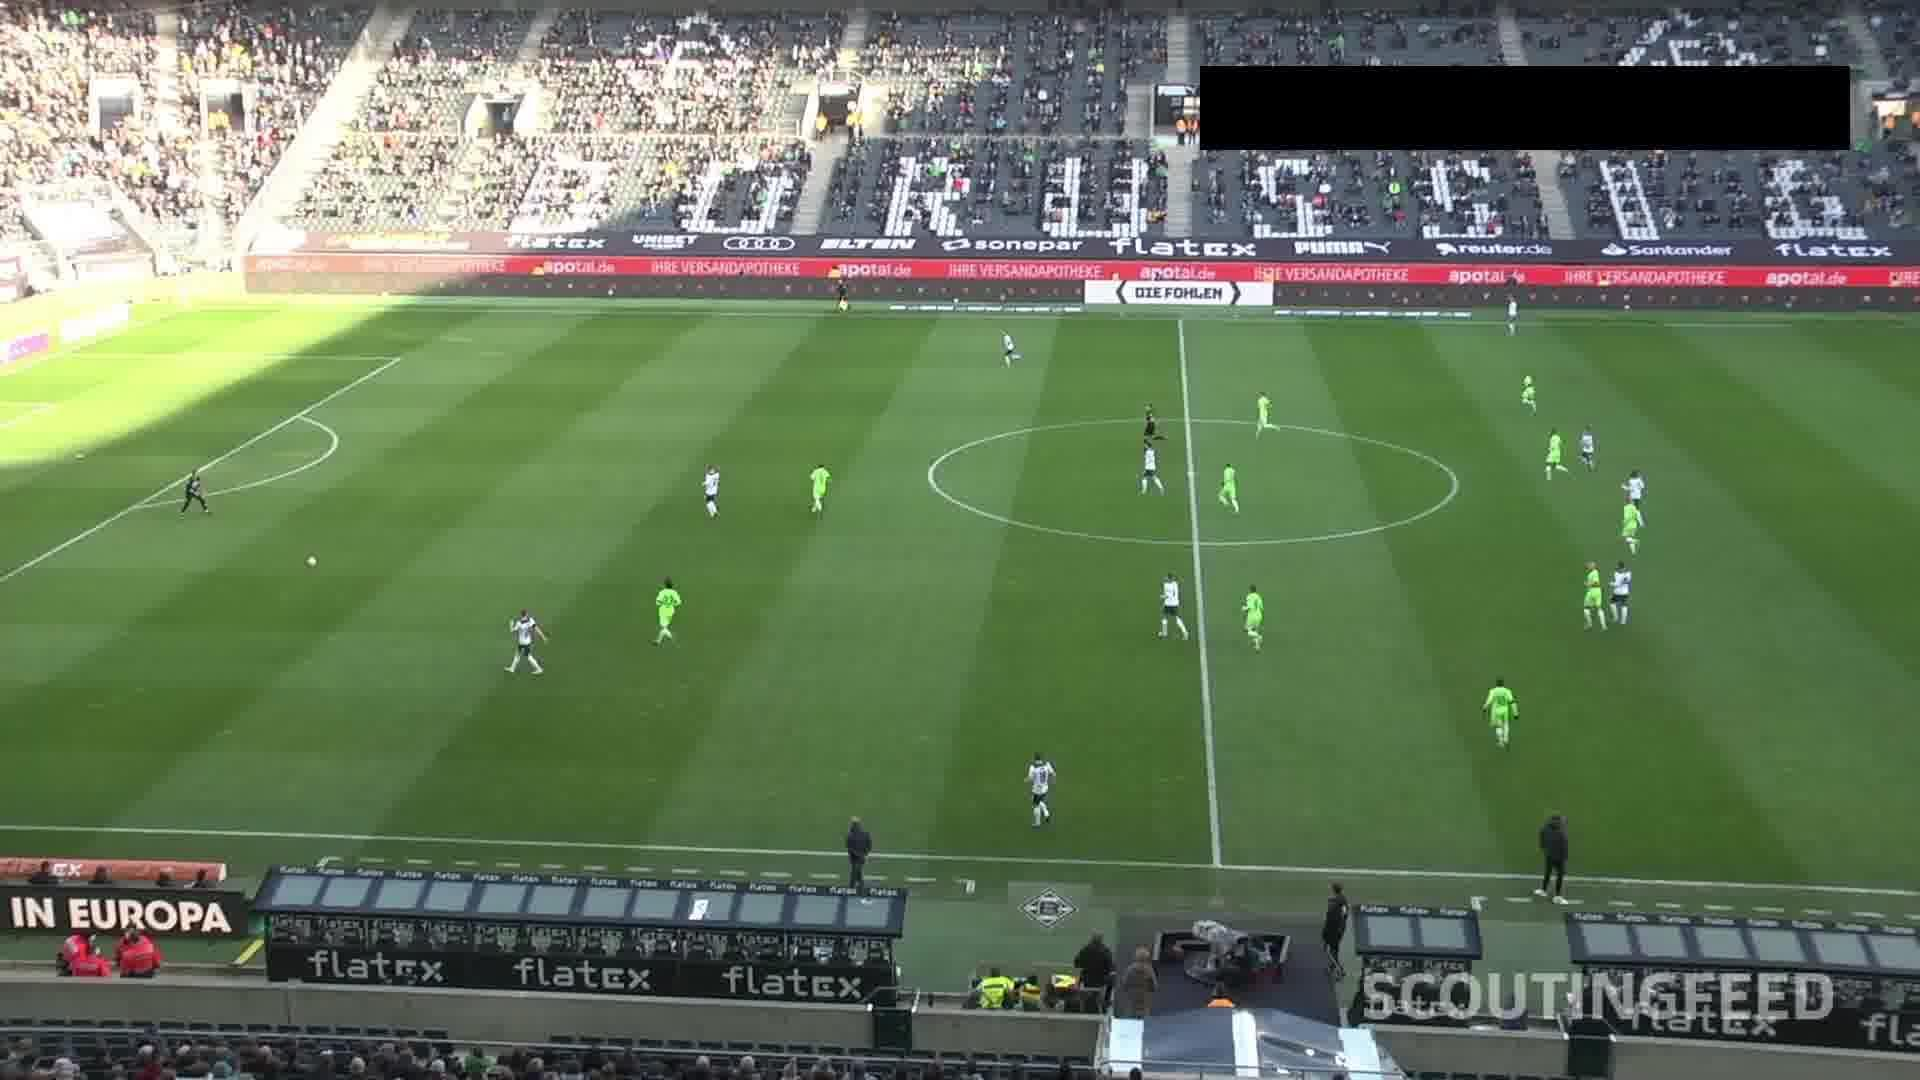football: (303, 554, 319, 568)
